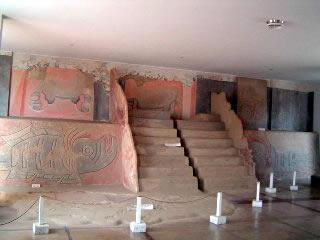Escaleras: (124, 117, 201, 195), (182, 120, 260, 189)
